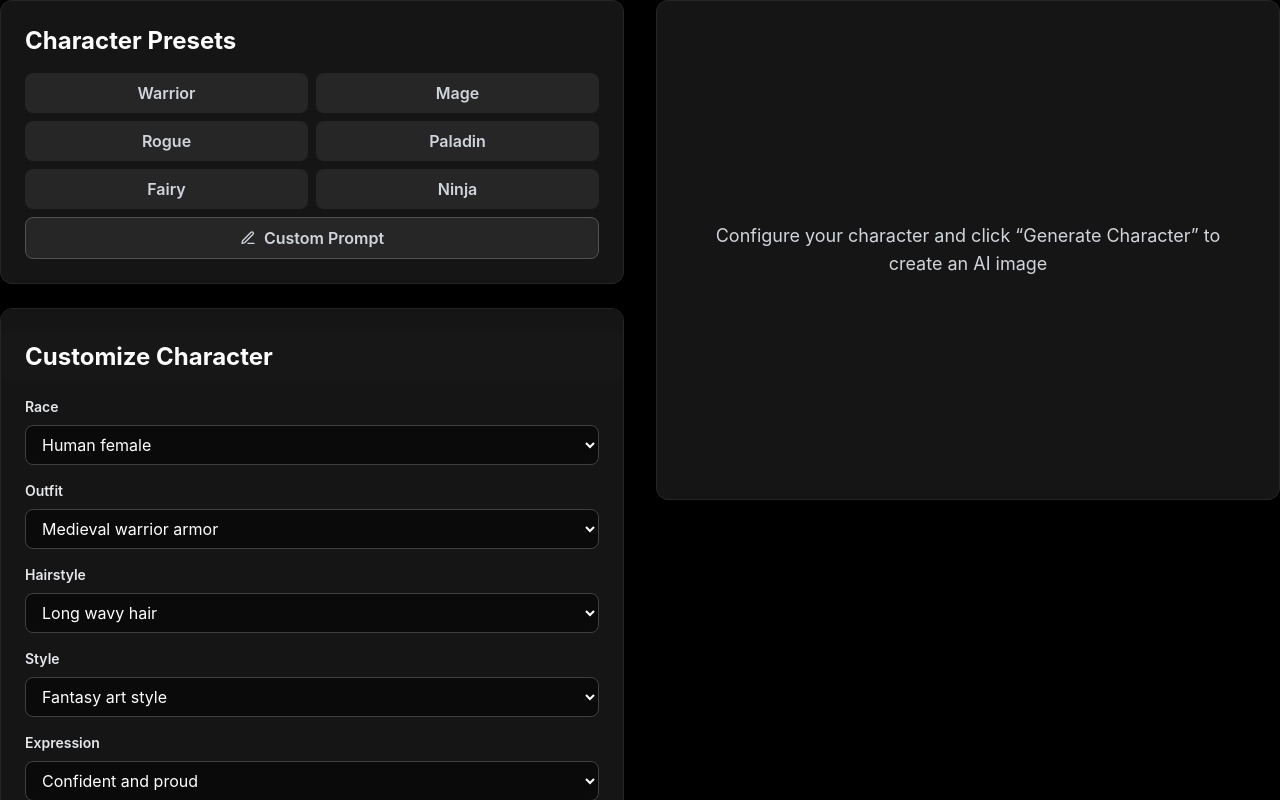
CharacterCustomizer › enables Generate once custom prompt has text
Step 1. Click the button "Custom Prompt" → (312, 238), box x1=25 y1=217 x2=599 y2=259
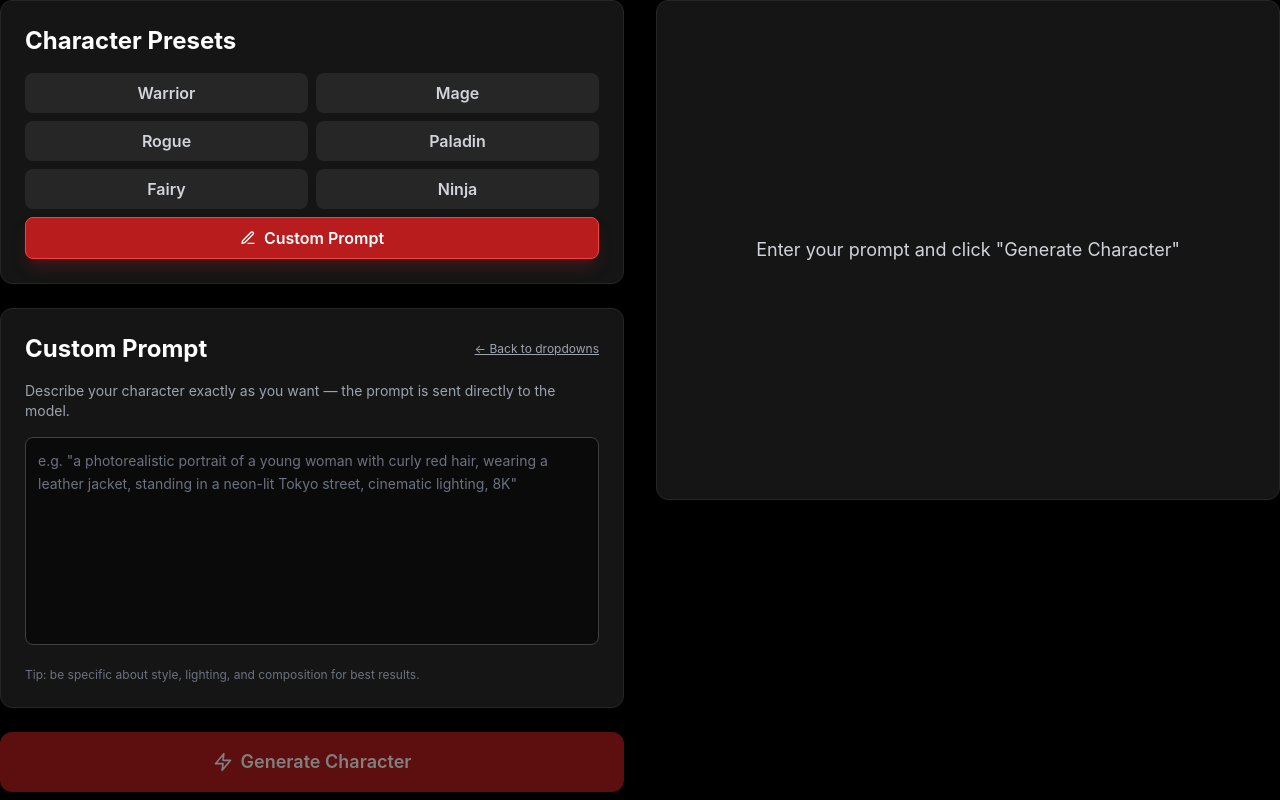
Step 2. Replace the text in the text box named "Custom prompt" with "a red dragon breathing fire" → (312, 541), box x1=25 y1=437 x2=599 y2=645
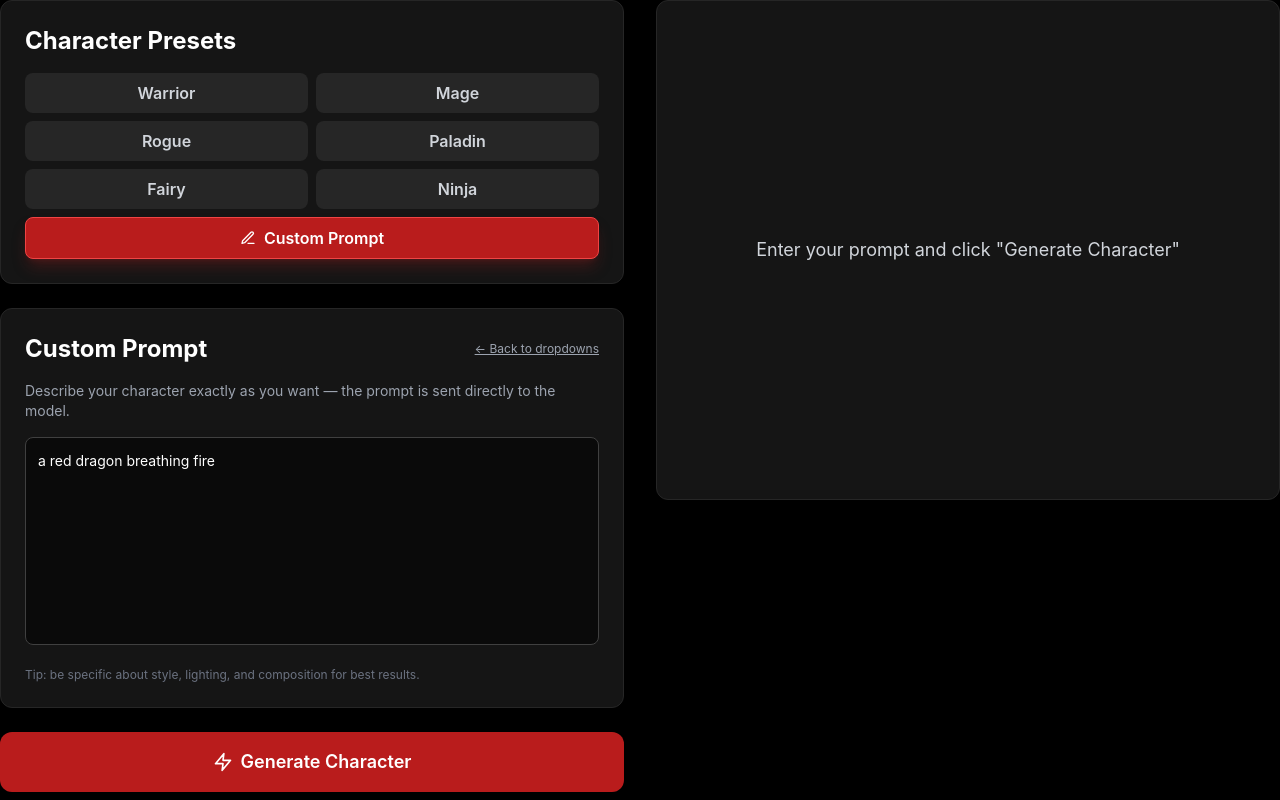
Expected: the button "Generate Character" is enabled, x1=0 y1=732 x2=624 y2=792
